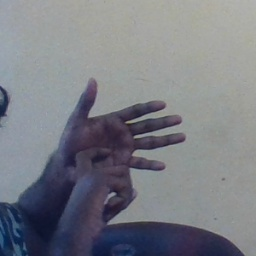R: (43, 75, 191, 228)
